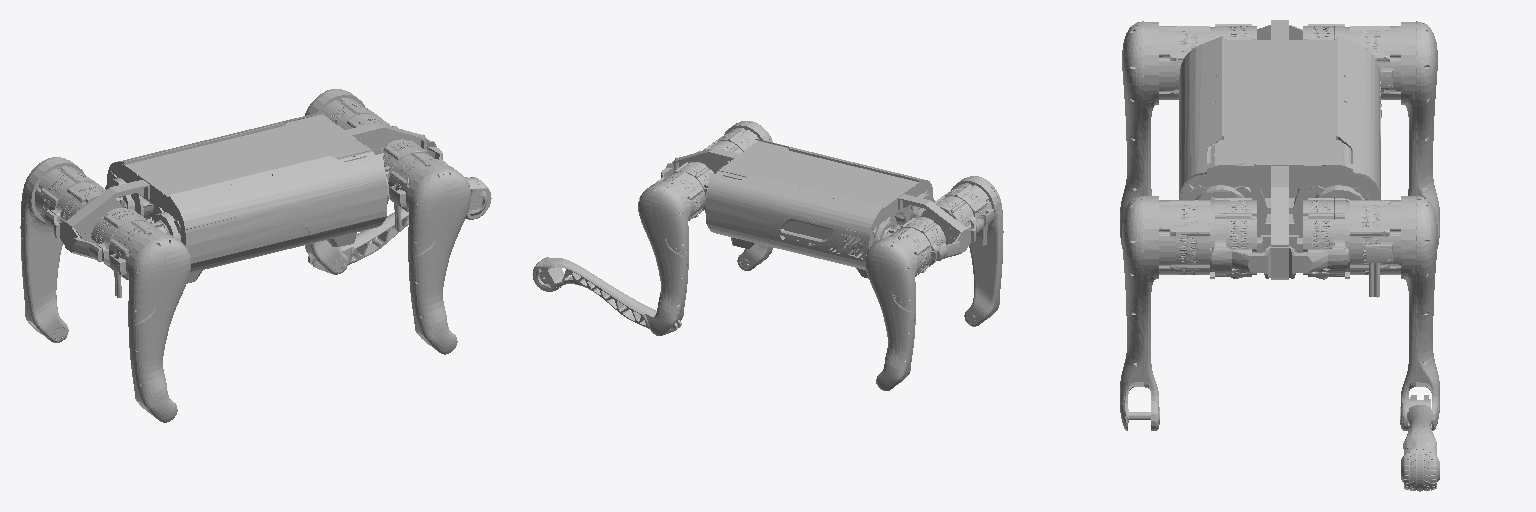
The robot description file, URDF, robot "bruce_description":
<?xml version="1.0" encoding="utf-8"?>

<robot name="bruce_description">

  <mujoco>
      <compiler 
      meshdir="../meshes/" 
      balanceinertia="true" 
      discardvisual="false" />
  </mujoco>

  <link name="base_link">
    <inertial>
      <origin xyz="0.002673 -0.000683 0.077608" rpy="0 0 0" />
      <mass value="26" />
      <inertia ixx="0.22799" ixy="-0.00044" ixz="0.00273" iyy="0.99014" iyz="-0.00026" izz="1.11139" />
    </inertial>
    <visual>
      <origin xyz="0 0 0" rpy="0 0 0" />
      <geometry>
        <mesh filename="package://bruce_description/meshes/base_link.STL" />
      </geometry>
      <material name="">
        <color rgba="0.75294 0.75294 0.75294 1" />
      </material>
    </visual>
    <collision>
      <origin xyz="0 0 0.09" rpy="0 0 0" />
      <geometry>
        <box size="0.5 0.35 0.18"/>
      </geometry>
    </collision>
    <collision>
      <origin xyz="0.36 0 0.09" rpy="0 -0.45 0" />
      <geometry>
        <box size="0.15 0.03 0.14"/>
      </geometry>
    </collision>
    <collision>
      <origin xyz="-0.36 0 0.09" rpy="0 0.45 0" />
      <geometry>
        <box size="0.15 0.03 0.14"/>
      </geometry>
    </collision>
  </link>
  <link name="FL_hip">
    <inertial>
      <origin xyz="-0.00576 -0.01672 0" rpy="0 0 0" />
      <mass value="2.9" />
      <inertia ixx="0.00496" ixy="-0.00034" ixz="0.00000" iyy="0.00840" iyz="0.00001" izz="0.00686" />
    </inertial>
    <visual>
      <origin xyz="0 0 0" rpy="0 0 0" />
      <geometry>
        <mesh filename="package://bruce_description/meshes/FL_hip.STL" />
      </geometry>
      <material name="">
        <color rgba="0.75294 0.75294 0.75294 1" />
      </material>
    </visual>
    <collision>
      <origin xyz="0 -0.024 0" rpy="1.57 0 0" />
      <geometry>
        <cylinder radius="0.065" length="0.07 "/>
      </geometry>
    </collision>
  </link>
  <joint name="FL_hip_joint" type="revolute">
    <origin xyz="0.34075 0.0975 0.088" rpy="0 0 0" />
    <parent link="base_link" />
    <child link="FL_hip" />
    <axis xyz="1 0 0" />
    <limit lower="-0.75" upper="0.75" effort="200" velocity="5" />
  </joint>
  <link name="FL_thigh">
    <inertial>
      <origin xyz="-0.00465 -0.05050 -0.03161" rpy="0 0 0" />
      <mass value="5.58" />
      <inertia ixx="0.05229" ixy="0.00049" ixz="0.00270" iyy="0.04971" iyz="0.00720" izz="0.01637" />
    </inertial>
    <visual>
      <origin xyz="0 0 0" rpy="0 0 0" /> 
      <geometry>
        <mesh filename="package://bruce_description/meshes/FL_thigh.STL" />
      </geometry>
      <material name="">
        <color rgba="0.75294 0.75294 0.75294 1" />
      </material>
    </visual>
    <collision>
      <origin xyz="0 -0.045 0" rpy="1.57 0 0" />
      <geometry>
        <cylinder radius="0.07" length="0.14 "/>
      </geometry>
    </collision>
    <collision>
      <origin xyz="-0.0 0 -0.12" rpy="0 0.3 0" />
      <geometry>
        <box size="0.065 0.045 0.22"/>
      </geometry>
    </collision>
    <collision>
      <origin xyz="-0.05 0 -0.12" rpy="0 0 0" />
      <geometry>
        <box size="0.03 0.045 0.35"/>
      </geometry>
    </collision>
  </link>
  <joint name="FL_thigh_joint" type="revolute">
    <origin xyz="0 0.134 0" rpy="0 0 0" />
    <parent link="FL_hip" />
    <child link="FL_thigh" />
    <axis xyz="0 1 0" />
    <limit lower="-0.69" upper="3" effort="200" velocity="5" />
  </joint>
  <link name="FL_calf">
    <inertial>
      <origin xyz="0.01596 0 -0.14872" rpy="0 0 0" />
      <mass value="1.0559" />
      <inertia ixx="0.01649" ixy="0" ixz="0.00146" iyy="0.01683" iyz="0" izz="0.00057" />
    </inertial>
    <visual>
      <origin xyz="0 0 0" rpy="0 0 0" />
      <geometry>
        <mesh filename="package://bruce_description/meshes/FL_calf.STL" />
      </geometry>
      <material name="">
        <color rgba="0.75294 0.75294 0.75294 1" />
      </material>
    </visual>
    <collision>
      <origin xyz="0.03 0 -0.15" rpy="0 -0.15 0" />
      <geometry>
        <box size="0.02 0.035 0.32"/>
      </geometry>
    </collision>
    <collision>
      <origin xyz="0 0 -0.12" rpy="0 -0.25 0" />
      <geometry>
        <box size="0.02 0.035 0.16"/>
      </geometry>
    </collision>
    <collision>
      <origin xyz="0 0 0" rpy="0 0 0" />
      <geometry>
        <box size="0.06 0.035 0.07"/>
      </geometry>
    </collision>
    <collision>
      <origin xyz="0.02 0 -0.25" rpy="0 0 0" />
      <geometry>
        <box size="0.02 0.035 0.08"/>
      </geometry>
    </collision>
    <collision>
      <origin xyz="0.02 0 -0.32" rpy="0 -0.8 0" />
      <geometry>
        <box size="0.02 0.035 0.06"/>
      </geometry>
    </collision>
  </link>
  <joint name="FL_calf_joint" type="revolute">
    <origin xyz="0 0 -0.325" rpy="0 0 0" />
    <parent link="FL_thigh" />
    <child link="FL_calf" />
    <axis xyz="0 1 0" />
    <limit lower="-2.7" upper="-0.80" effort="200" velocity="5" />
  </joint>
  <link name="FL_foot">
    <inertial>
      <origin xyz="-0.0044 0 -0.0045" rpy="0 0 0" />
      <mass value="0.20721" />
      <inertia ixx="0.00012" ixy="0" ixz="0.00003" iyy="0.00015" iyz="0" izz="0.00013" />
    </inertial>
    <visual>
      <origin xyz="0 0 0" rpy="0 0 0" />
      <geometry>
        <mesh filename="package://bruce_description/meshes/FL_foot.STL" />
      </geometry>
      <material name="">
        <color rgba="0.75294 0.75294 0.75294 1" />
      </material>
    </visual>
    <collision>
      <origin xyz="0.008 0 0.008" rpy="0 0 0" />
      <geometry> 
        <sphere radius="0.05" />
      </geometry>
    </collision>
  </link>
  <joint name="FL_foot_joint" type="fixed" dont_collapse="true">
    <origin xyz="1.9903E-05 0 -0.34532" rpy="0 0 0" />
    <parent link="FL_calf" />
    <child link="FL_foot" />
  </joint>

  <link name="FR_hip">
    <inertial>
      <origin xyz="-0.00576 0.01672 0" rpy="0 0 0" />
      <mass value="2.9" />
      <inertia ixx="0.00496" ixy="0.00034" ixz="0.00000" iyy="0.00840" iyz="0.00001" izz="0.00686" />
    </inertial>
    <visual>
      <origin xyz="0 0 0" rpy="0 0 0" />
      <geometry>
        <mesh filename="package://bruce_description/meshes/FR_hip.STL" />
      </geometry>
      <material name="">
        <color rgba="0.75294 0.75294 0.75294 1" />
      </material>
    </visual>
    <collision>
      <origin xyz="0 0.024 0" rpy="1.57 0 0" />
      <geometry>
        <cylinder radius="0.065" length="0.07 "/>
      </geometry>
    </collision>
  </link>
  <joint name="FR_hip_joint" type="revolute">
    <origin
      xyz="0.34075 -0.0975 0.088"
      rpy="0 0 0" />
    <parent link="base_link" />
    <child link="FR_hip" />
    <axis
      xyz="1 0 0" />
    <limit
      lower="-0.75"
      upper="0.75"
      effort="200"
      velocity="5" />
  </joint>
  <link name="FR_thigh">
    <inertial>
      <origin xyz="-0.00465 0.05050 -0.03161" rpy="0 0 0" />
      <mass value="5.58" />
      <inertia ixx="0.05229" ixy="-0.00049" ixz="0.00270" iyy="0.04971" iyz="-0.00720" izz="0.01637" />
    </inertial>
    <visual>
      <origin xyz="0 0 0" rpy="0 0 0" />
      <geometry>
        <mesh filename="package://bruce_description/meshes/FR_thigh.STL" />
      </geometry>
      <material name="">
        <color rgba="0.75294 0.75294 0.75294 1" />
      </material>
    </visual>
    <collision>
      <origin xyz="0 0.045 0" rpy="1.57 0 0" />
      <geometry>
        <cylinder radius="0.07" length="0.14 "/>
      </geometry>
    </collision>
    <collision>
      <origin xyz="-0.0 0 -0.12" rpy="0 0.3 0" />
      <geometry>
        <box size="0.065 0.045 0.22"/>
      </geometry>
    </collision>
    <collision>
      <origin xyz="-0.05 0 -0.12" rpy="0 0 0" />
      <geometry>
        <box size="0.03 0.045 0.35"/>
      </geometry>
    </collision>
  </link>
  <joint name="FR_thigh_joint" type="revolute">
    <origin xyz="0 -0.134 0" rpy="0 0 0" />
    <parent link="FR_hip" />
    <child link="FR_thigh" />
    <axis xyz="0 1 0" />
    <limit lower="-0.69" upper="3" effort="200" velocity="5" />
  </joint>
  <link name="FR_calf">
    <inertial>
      <origin xyz="0.01596 0 -0.14872" rpy="0 0 0" />
      <mass value="1.0559" />
      <inertia ixx="0.01649" ixy="0" ixz="0.00146" iyy="0.01683" iyz="0" izz="0.00057" />
    </inertial>
    <visual>
      <origin xyz="0 0 0" rpy="0 0 0" />
      <geometry>
        <mesh filename="package://bruce_description/meshes/FR_calf.STL" />
      </geometry>
      <material name="">
        <color rgba="0.75294 0.75294 0.75294 1" />
      </material>
    </visual>
    <collision>
      <origin xyz="0.03 0 -0.15" rpy="0 -0.15 0" />
      <geometry>
        <box size="0.02 0.035 0.32"/>
      </geometry>
    </collision>
    <collision>
      <origin xyz="0 0 -0.12" rpy="0 -0.25 0" />
      <geometry>
        <box size="0.02 0.035 0.16"/>
      </geometry>
    </collision>
    <collision>
      <origin xyz="0 0 0" rpy="0 0 0" />
      <geometry>
        <box size="0.06 0.035 0.07"/>
      </geometry>
    </collision>
    <collision>
      <origin xyz="0.02 0 -0.25" rpy="0 0 0" />
      <geometry>
        <box size="0.02 0.035 0.08"/>
      </geometry>
    </collision>
    <collision>
      <origin xyz="0.02 0 -0.32" rpy="0 -0.8 0" />
      <geometry>
        <box size="0.02 0.035 0.06"/>
      </geometry>
    </collision>
  </link>
  <joint name="FR_calf_joint" type="revolute">
    <origin xyz="0 0 -0.325" rpy="0 0 0" />
    <parent link="FR_thigh" />
    <child link="FR_calf" />
    <axis xyz="0 1 0" />
    <limit lower="-2.7" upper="-0.80" effort="200" velocity="5" />
  </joint>
  <link name="FR_foot">
    <inertial>
      <origin xyz="-0.0044 0 -0.0045" rpy="0 0 0" />
      <mass value="0.20721" />
      <inertia ixx="0.00012" ixy="0" ixz="0.00003" iyy="0.00015" iyz="0" izz="0.00013" />
    </inertial>
    <visual>
      <origin xyz="0 0 0" rpy="0 0 0" />
      <geometry>
        <mesh filename="package://bruce_description/meshes/FR_foot.STL" />
      </geometry>
      <material name="">
        <color rgba="0.75294 0.75294 0.75294 1" />
      </material>
    </visual>
    <collision>
      <origin xyz="0.008 0 0.008" rpy="0 0 0" />
      <geometry> 
        <sphere radius="0.05" />
      </geometry>
    </collision>
  </link>
  <joint name="FR_foot_joint" type="fixed" dont_collapse="true">
    <origin xyz="1.9903E-05 0 -0.34532" rpy="0 0 0" />
    <parent link="FR_calf" />
    <child link="FR_foot" />
  </joint>

  <link name="RL_hip">
    <inertial>
      <origin xyz="-0.00576 0.01672 0" rpy="0 0 0" />
      <mass value="2.9" />
      <inertia ixx="0.00496" ixy="0.00034" ixz="0.00000" iyy="0.00840" iyz="-0.00001" izz="0.00686" />
    </inertial>
    <visual>
      <origin xyz="0 0 0" rpy="0 0 0" />
      <geometry>
        <mesh filename="package://bruce_description/meshes/RL_hip.STL" />
      </geometry>
      <material name="">
        <color rgba="0.75294 0.75294 0.75294 1" />
      </material>
    </visual>
    <collision>
      <origin xyz="0 -0.024 0" rpy="1.57 0 0" />
      <geometry>
        <cylinder radius="0.065" length="0.07 "/>
      </geometry>
    </collision>
  </link>
  <joint name="RL_hip_joint" type="revolute">
    <origin xyz="-0.34075 0.0975 0.088" rpy="0 0 0" />
    <parent link="base_link" />
    <child link="RL_hip" />
    <axis xyz="1 0 0" />
    <limit lower="-0.75" upper="0.75" effort="200" velocity="5" />
  </joint>
  <link name="RL_thigh">
    <inertial>
      <origin xyz="-0.00465 -0.05050 -0.03161" rpy="0 0 0" />
      <mass value="5.58" />
      <inertia ixx="0.05229" ixy="0.00049" ixz="0.00270" iyy="0.04971" iyz="0.00720" izz="0.01637" />
    </inertial>
    <visual>
      <origin xyz="0 0 0" rpy="0 0 0" />
      <geometry>
        <mesh filename="package://bruce_description/meshes/RL_thigh.STL" />
      </geometry>
      <material name="">
        <color rgba="0.75294 0.75294 0.75294 1" />
      </material>
    </visual>
    <collision>
      <origin xyz="0 -0.045 0" rpy="1.57 0 0" />
      <geometry>
        <cylinder radius="0.07" length="0.14 "/>
      </geometry>
    </collision>
    <collision>
      <origin xyz="-0.0 0 -0.12" rpy="0 0.3 0" />
      <geometry>
        <box size="0.065 0.045 0.22"/>
      </geometry>
    </collision>
    <collision>
      <origin xyz="-0.05 0 -0.12" rpy="0 0 0" />
      <geometry>
        <box size="0.03 0.045 0.35"/>
      </geometry>
    </collision>
  </link>
  <joint name="RL_thigh_joint" type="revolute">
    <origin xyz="0 0.134 0" rpy="0 0 0" />
    <parent link="RL_hip" />
    <child link="RL_thigh" />
    <axis xyz="0 1 0" />
    <limit lower="-0.69" upper="3" effort="200" velocity="5" />
  </joint>
  <link name="RL_calf">
    <inertial>
      <origin xyz="0.01596 0 -0.14872" rpy="0 0 0" />
      <mass value="1.0559" />
      <inertia ixx="0.01649" ixy="0" ixz="0.00146" iyy="0.01683" iyz="0" izz="0.00057" />
    </inertial>
    <visual>
      <origin xyz="0 0 0" rpy="0 0 0" />
      <geometry>
        <mesh filename="package://bruce_description/meshes/RL_calf.STL" />
      </geometry>
      <material name="">
        <color rgba="0.75294 0.75294 0.75294 1" />
      </material>
    </visual>
    <collision>
      <origin xyz="0.03 0 -0.15" rpy="0 -0.15 0" />
      <geometry>
        <box size="0.02 0.035 0.32"/>
      </geometry>
    </collision>
    <collision>
      <origin xyz="0 0 -0.12" rpy="0 -0.25 0" />
      <geometry>
        <box size="0.02 0.035 0.16"/>
      </geometry>
    </collision>
    <collision>
      <origin xyz="0 0 0" rpy="0 0 0" />
      <geometry>
        <box size="0.06 0.035 0.07"/>
      </geometry>
    </collision>
    <collision>
      <origin xyz="0.02 0 -0.25" rpy="0 0 0" />
      <geometry>
        <box size="0.02 0.035 0.08"/>
      </geometry>
    </collision>
    <collision>
      <origin xyz="0.02 0 -0.32" rpy="0 -0.8 0" />
      <geometry>
        <box size="0.02 0.035 0.06"/>
      </geometry>
    </collision>
  </link>
  <joint name="RL_calf_joint" type="revolute">
    <origin xyz="0 0 -0.325" rpy="0 0 0" />
    <parent link="RL_thigh" />
    <child link="RL_calf" />
    <axis xyz="0 1 0" />
    <limit lower="-2.7" upper="-0.80" effort="200" velocity="5" />
  </joint>
  <link name="RL_foot">
    <inertial>
      <origin xyz="-0.0044 0 -0.0045" rpy="0 0 0" />
      <mass value="0.20721" />
      <inertia ixx="0.00012" ixy="0" ixz="0.00003" iyy="0.00015" iyz="0" izz="0.00013" />
    </inertial>
    <visual>
      <origin xyz="0 0 0" rpy="0 0 0" />
      <geometry>
        <mesh filename="package://bruce_description/meshes/RL_foot.STL" />
      </geometry>
      <material name="">
        <color rgba="0.75294 0.75294 0.75294 1" />
      </material>
    </visual>
    <collision>
      <origin xyz="0.008 0 0.008" rpy="0 0 0" />
      <geometry> 
        <sphere radius="0.05" />
      </geometry>
    </collision>
  </link>
  <joint name="RL_foot_joint" type="fixed" dont_collapse="true">
    <origin xyz="1.9903E-05 0 -0.34532" rpy="0 0 0" />
    <parent link="RL_calf" />
    <child link="RL_foot" />
  </joint>

  <link name="RR_hip">
    <inertial>
      <origin xyz="0.0058 0.0167 0" rpy="0 0 0" />
      <mass value="2.9" />
      <inertia
        ixx="0.0058"
        ixy="0"
        ixz="0"
        iyy="0.0085"
        iyz="0"
        izz="0.0079" />
    </inertial>
    <visual>
      <origin xyz="0 0 0" rpy="0 0 0" />
      <geometry>
        <mesh filename="package://bruce_description/meshes/RR_hip.STL" />
      </geometry>
      <material name="">
        <color rgba="0.75294 0.75294 0.75294 1" />
      </material>
    </visual>
    <collision>
      <origin xyz="0 0.024 0" rpy="1.57 0 0" />
      <geometry>
        <cylinder radius="0.065" length="0.07 "/>
      </geometry>
    </collision>
  </link>
  <joint name="RR_hip_joint" type="revolute">
    <origin xyz="-0.34075 -0.0975 0.088" rpy="0 0 0" /> 
    <parent link="base_link" />
    <child link="RR_hip" />
    <axis xyz="1 0 0" />
    <limit lower="-0.75" upper="0.75" effort="200" velocity="5" />
  </joint>
  <link name="RR_thigh">
    <inertial>
      <origin xyz="-0.00465 0.05050 -0.03161" rpy="0 0 0" />
      <mass value="5.58" />
      <inertia ixx="0.05229" ixy="-0.00049" ixz="0.00270" iyy="0.04971" iyz="-0.00720" izz="0.01637" />
    </inertial>
    <visual>
      <origin xyz="0 0 0" rpy="0 0 0" />
      <geometry>
        <mesh filename="package://bruce_description/meshes/RR_thigh.STL" />
      </geometry>
      <material name="">
        <color rgba="0.75294 0.75294 0.75294 1" />
      </material>
    </visual>
    <collision>
      <origin xyz="0 0.045 0" rpy="1.57 0 0" />
      <geometry>
        <cylinder radius="0.07" length="0.14 "/>
      </geometry>
    </collision>
    <collision>
      <origin xyz="-0.0 0 -0.12" rpy="0 0.3 0" />
      <geometry>
        <box size="0.065 0.045 0.22"/>
      </geometry>
    </collision>
    <collision>
      <origin xyz="-0.05 0 -0.12" rpy="0 0 0" />
      <geometry>
        <box size="0.03 0.045 0.35"/>
      </geometry>
    </collision>
  </link>
  <joint name="RR_thigh_joint" type="revolute">
    <origin xyz="0 -0.134 0" rpy="0 0 0" />
    <parent link="RR_hip" />
    <child link="RR_thigh" />
    <axis xyz="0 1 0" />
    <limit lower="-0.69" upper="3" effort="200" velocity="5" />
  </joint>
  <link name="RR_calf">
    <inertial>
      <origin xyz="0.01596 0 -0.14872" rpy="0 0 0" />
      <mass value="1.0559" />
      <inertia ixx="0.01649" ixy="0" ixz="0.00146" iyy="0.01683" iyz="0" izz="0.00057" />
    </inertial>
    <visual>
      <origin xyz="0 0 0" rpy="0 0 0" />
      <geometry>
        <mesh filename="package://bruce_description/meshes/RR_calf.STL" />
      </geometry>
      <material name="">
        <color rgba="0.75294 0.75294 0.75294 1" />
      </material>
    </visual>
    <collision>
      <origin xyz="0.03 0 -0.15" rpy="0 -0.15 0" />
      <geometry>
        <box size="0.02 0.035 0.32"/>
      </geometry>
    </collision>
    <collision>
      <origin xyz="0 0 -0.12" rpy="0 -0.25 0" />
      <geometry>
        <box size="0.02 0.035 0.16"/>
      </geometry>
    </collision>
    <collision>
      <origin xyz="0 0 0" rpy="0 0 0" />
      <geometry>
        <box size="0.06 0.035 0.07"/>
      </geometry>
    </collision>
    <collision>
      <origin xyz="0.02 0 -0.25" rpy="0 0 0" />
      <geometry>
        <box size="0.02 0.035 0.08"/>
      </geometry>
    </collision>
    <collision>
      <origin xyz="0.02 0 -0.32" rpy="0 -0.8 0" />
      <geometry>
        <box size="0.02 0.035 0.06"/>
      </geometry>
    </collision>
  </link>
  <joint name="RR_calf_joint" type="revolute">
    <origin xyz="0 0 -0.325" rpy="0 0 0" />
    <parent link="RR_thigh" />
    <child link="RR_calf" />
    <axis xyz="0 1 0" />
    <limit lower="-2.7" upper="-0.80" effort="200" velocity="5" />
  </joint>
  <link name="RR_foot">
    <inertial>
      <origin xyz="-0.0044 0 -0.0045" rpy="0 0 0" />
      <mass value="0.20721" />
      <inertia ixx="0.00012" ixy="0" ixz="0.00003" iyy="0.00015" iyz="0" izz="0.00013" />
    </inertial>
    <visual>
      <origin xyz="0 0 0" rpy="0 0 0" />
      <geometry>
        <mesh filename="package://bruce_description/meshes/RR_foot.STL" />
      </geometry>
      <material name="">
        <color rgba="0.75294 0.75294 0.75294 1" />
      </material>
    </visual>
    <collision>
      <origin xyz="0.008 0 0.008" rpy="0 0 0" />
      <geometry> 
        <sphere radius="0.05" />
      </geometry>
    </collision>
  </link>
  <joint name="RR_foot_joint" type="fixed" dont_collapse="true">
    <origin xyz="1.9903E-05 0 -0.34532" rpy="0 0 0" />
    <parent link="RR_calf" />
    <child link="RR_foot" />
  </joint>

  <link name="imu_link">
    <inertial>
      <origin xyz="0 0 0" rpy="0 0 0" />
      <mass value="0" />
      <inertia ixx="0" ixy="0" ixz="0" iyy="0" iyz="0" izz="0" />
    </inertial>
  </link>
  <joint name="imu_joint" type="fixed">
    <origin xyz="0 0 0.114" rpy="0 0 0" />
    <parent link="base_link" />
    <child link="imu_link" />
    <axis xyz="0 0 0" />
  </joint>

</robot>

--- What the picture shows (computed from the rendered views, not written in the file) ---
Views: 3 orthographic renders of the robot side by side, from view 1: azimuth 30°, elevation 25°; view 2: azimuth 150°, elevation 25°; view 3: azimuth 270°, elevation 25°.
Model bruce_description with 18 links and 17 joints (12 revolute, 5 fixed), rooted at base_link, posed joints at zero except 4 at the middle of their limits (FL_calf_joint = -1.75, FR_calf_joint = -1.75, RL_calf_joint = -1.75, RR_calf_joint = -1.75).
Links seen in each view (by area): view 1: base_link, FR_thigh, RR_thigh, RL_thigh, FL_thigh, FL_calf, RL_hip, RR_hip, FR_hip, FL_hip, FL_foot; view 2: base_link, RL_thigh, FL_thigh, RR_thigh, FL_calf, FR_thigh, RR_hip, RL_hip; view 3: base_link, FL_thigh, FR_thigh, RR_thigh, RL_thigh, FR_hip, FL_hip, FL_foot, FL_calf, RL_hip, RR_hip.
Boxes of the visible links, bbox=[...] form: base_link: bbox=[44, 111, 448, 283]; FR_thigh: bbox=[388, 152, 470, 354]; RR_thigh: bbox=[109, 220, 190, 422]; RL_thigh: bbox=[20, 157, 101, 342]; FL_thigh: bbox=[305, 89, 380, 274]; FL_calf: bbox=[308, 177, 478, 274]; RL_hip: bbox=[51, 182, 121, 241]; RR_hip: bbox=[91, 208, 165, 266]; FR_hip: bbox=[377, 139, 428, 198]; FL_hip: bbox=[343, 114, 397, 154]; FL_foot: bbox=[465, 177, 491, 219]; base_link: bbox=[656, 139, 983, 278]; RL_thigh: bbox=[865, 227, 931, 390]; FL_thigh: bbox=[638, 172, 704, 335]; RR_thigh: bbox=[944, 176, 1003, 326]; FL_calf: bbox=[543, 258, 681, 335]; FR_thigh: bbox=[716, 121, 772, 270]; RR_hip: bbox=[921, 196, 978, 244]; RL_hip: bbox=[886, 217, 945, 266]; base_link: bbox=[1179, 20, 1381, 279]; FL_thigh: bbox=[1345, 196, 1439, 430]; FR_thigh: bbox=[1120, 196, 1214, 430]; RR_thigh: bbox=[1120, 21, 1214, 248]; RL_thigh: bbox=[1345, 21, 1439, 248]; FR_hip: bbox=[1210, 198, 1262, 276]; FL_hip: bbox=[1297, 198, 1349, 276]; FL_foot: bbox=[1401, 447, 1439, 491]; FL_calf: bbox=[1403, 395, 1436, 449]; RL_hip: bbox=[1303, 24, 1344, 39]; RR_hip: bbox=[1215, 24, 1256, 39].
Bounding box of the posed robot: 1.16 × 0.5294 × 0.4457 m (x, y, z).
Meshes: 17 distinct files referenced, 11 mesh visuals loaded (11 binary STL); not drawn: 6 (reference not matched to a file when rendering).
